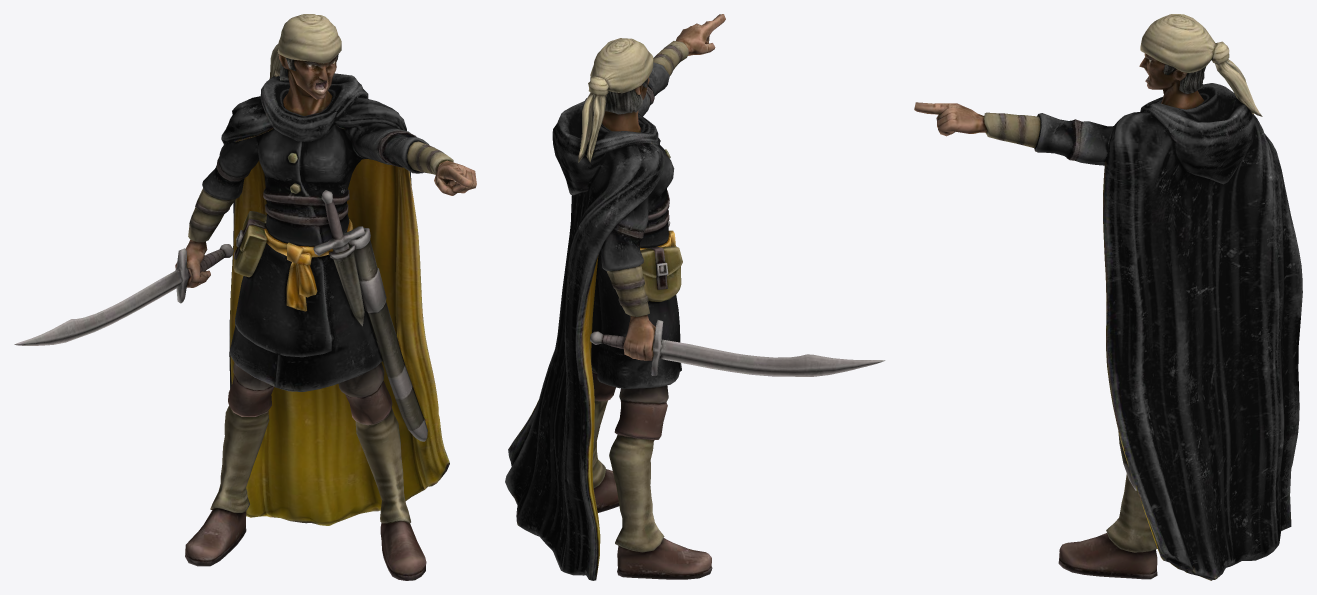
The model's file is MZ4250 - Bandit Captain Female 03.glb.
3 renders of one model, left to right at view 1: azimuth 30°, elevation 25°; view 2: azimuth 150°, elevation 25°; view 3: azimuth 270°, elevation 25°, orthographic. The views are drawn at different scales.
Visible parts, largest first — view 1: BanditCaptainFemale02; view 2: BanditCaptainFemale02; view 3: BanditCaptainFemale02.
Boxes of the visible parts, x1,y1,x2,y2 form: BanditCaptainFemale02: (14, 14, 476, 580); BanditCaptainFemale02: (505, 14, 885, 580); BanditCaptainFemale02: (914, 14, 1302, 580).
Size of the model in its own units: 0.8823 by 1.08 by 0.7177.
1 material, 1 textured.
